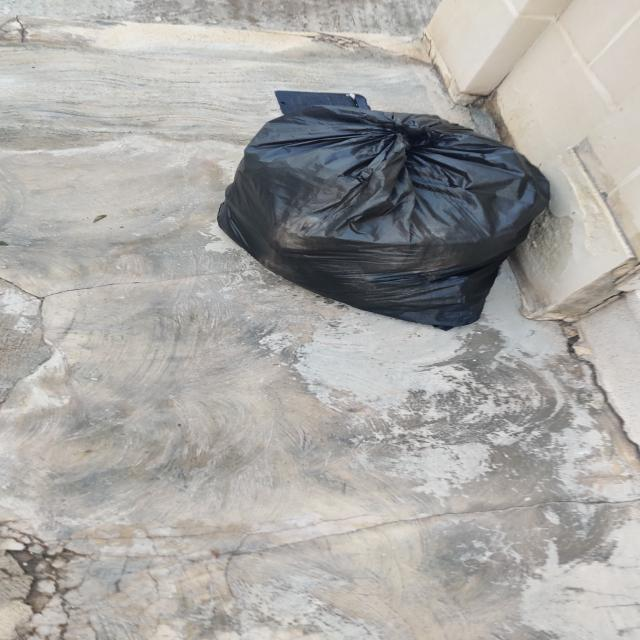Mixed Waste -Black Bags-: (232, 109, 553, 325)
